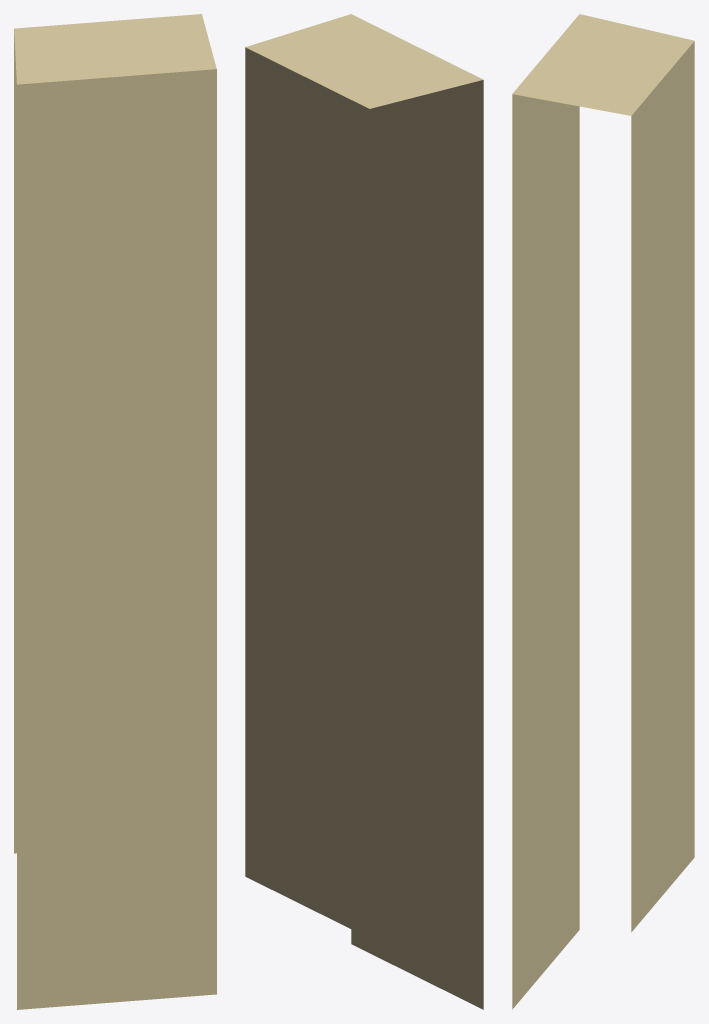
Rendered from wall4.fbx.
3 renders of one model, left to right at view 1: azimuth 30°, elevation 25°; view 2: azimuth 150°, elevation 25°; view 3: azimuth 270°, elevation 25°, orthographic.
Parts seen in each view (by area): view 1: duvar.033; view 2: duvar.033; view 3: duvar.033.
Boxes of the visible parts, x1,y1,x2,y2 form: duvar.033: [14, 14, 216, 1009]; duvar.033: [245, 14, 483, 1009]; duvar.033: [512, 14, 694, 1009].
Size of the model in its own units: 10.75 by 44.99 by 8.13.
